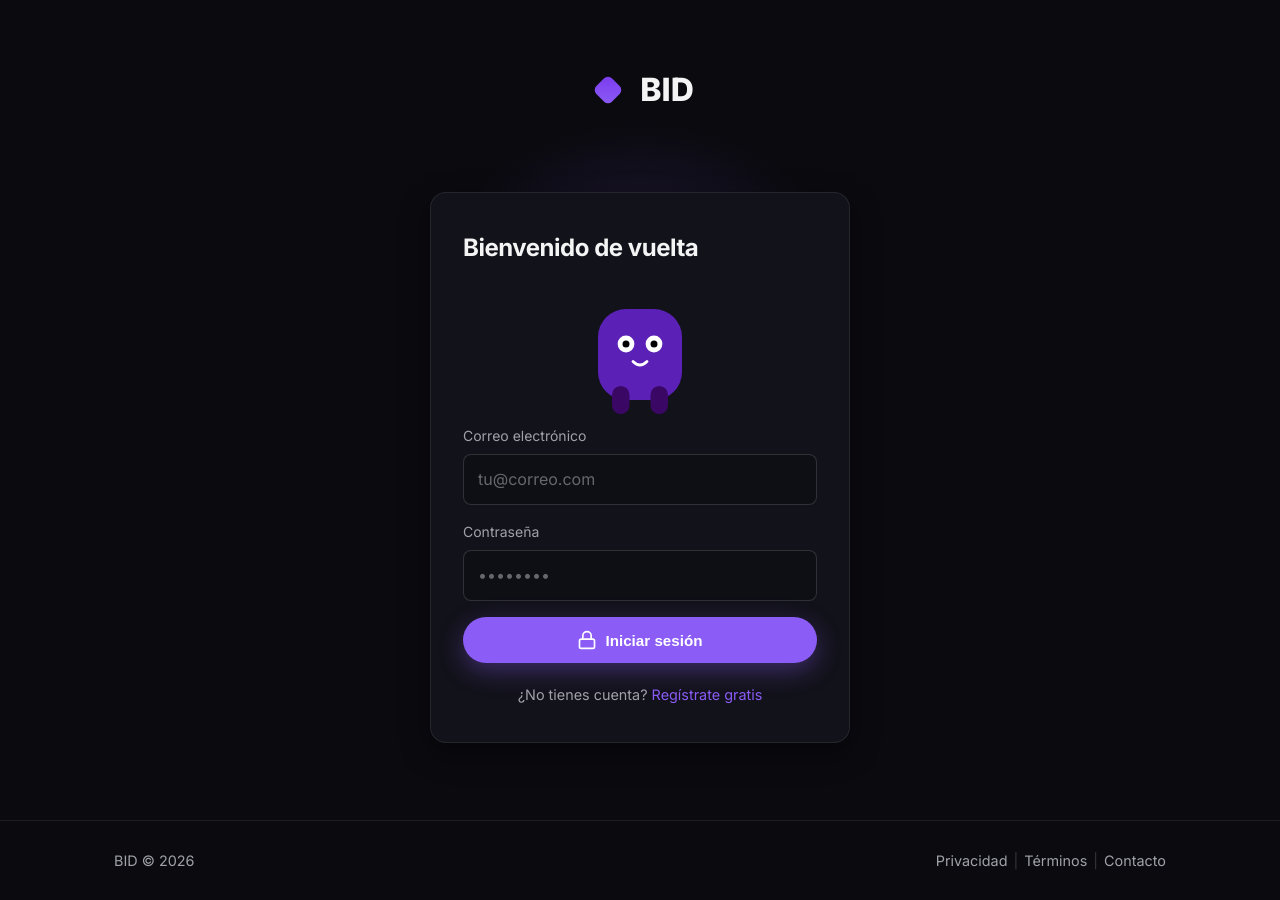
Scenario: LoginPage › shows the backend error message when login fails
In the field labelled "Correo electrónico": (640, 479) [463,454,817,505], type "ana@example.com"
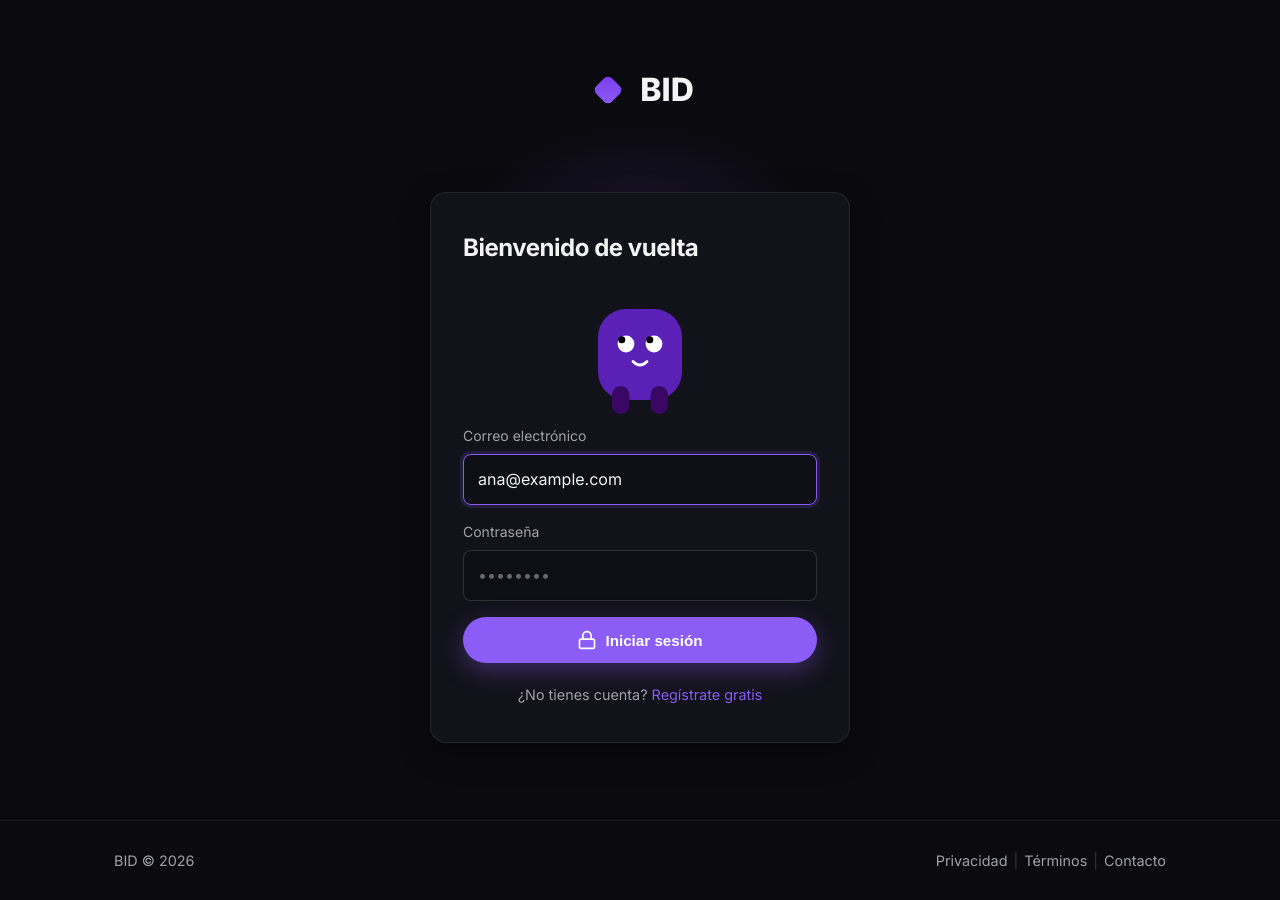
In the password field labelled "Contraseña": (640, 575) [463,550,817,601], type "wrong"
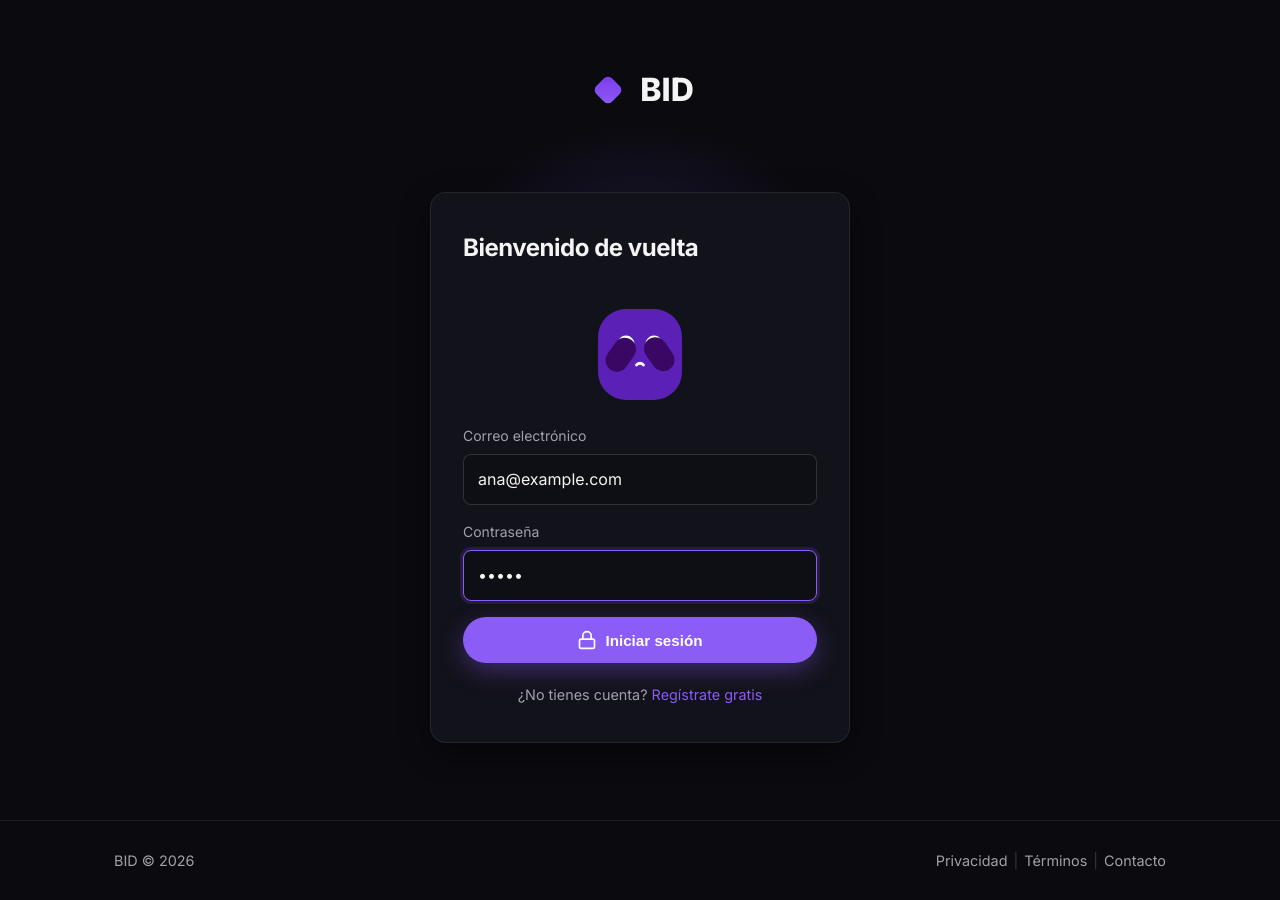
Click the button "Iniciar sesión": click(640, 640) [463,617,817,663]
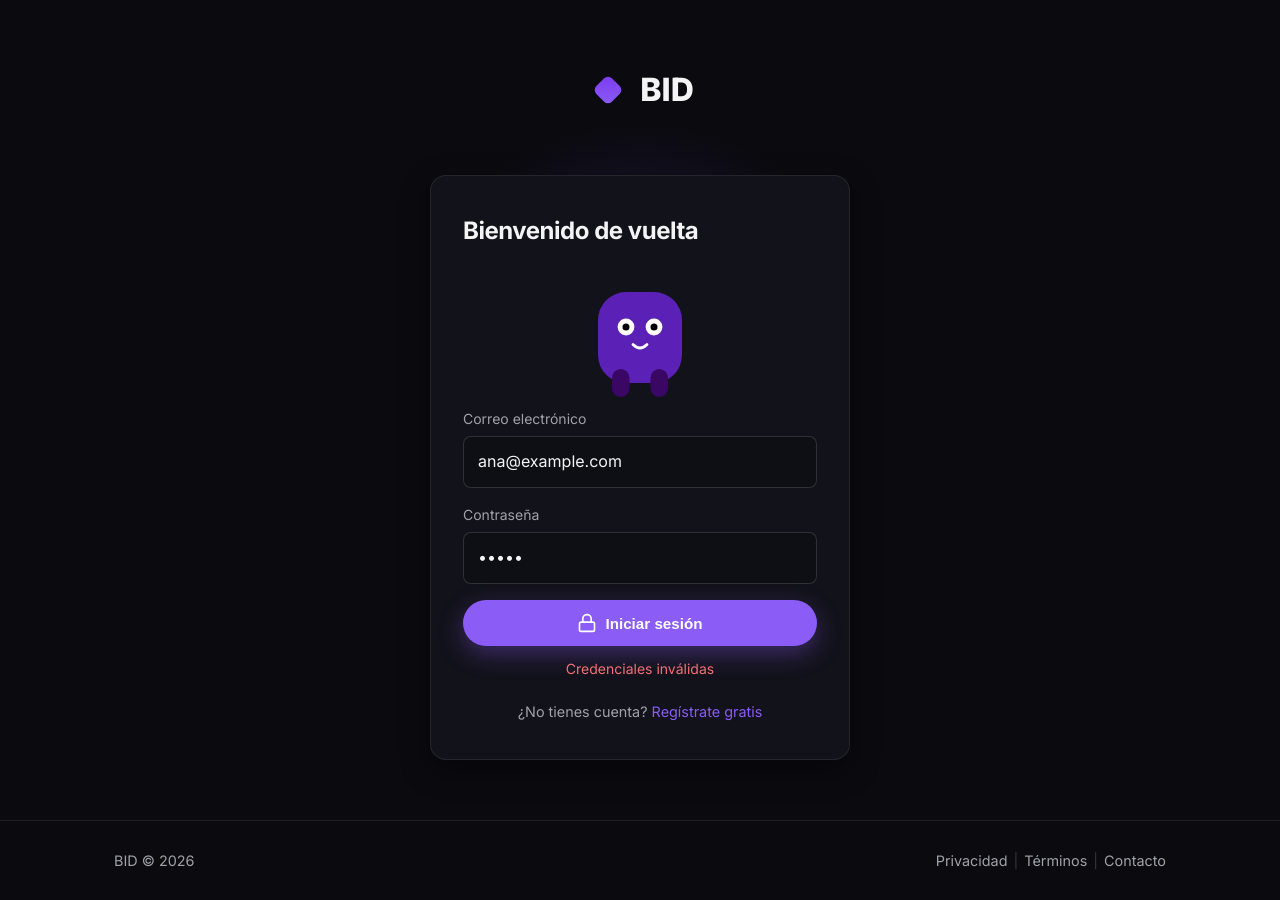
Expected: the text "Credenciales inválidas" is shown, [566,660,714,677]
